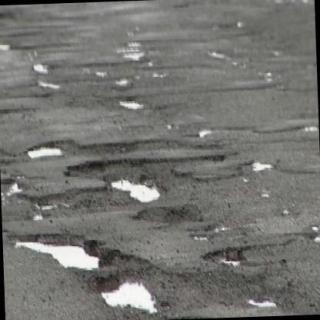pothole: (8, 233, 122, 269), (88, 271, 162, 315), (109, 175, 167, 205), (202, 248, 248, 267), (26, 146, 65, 159)
